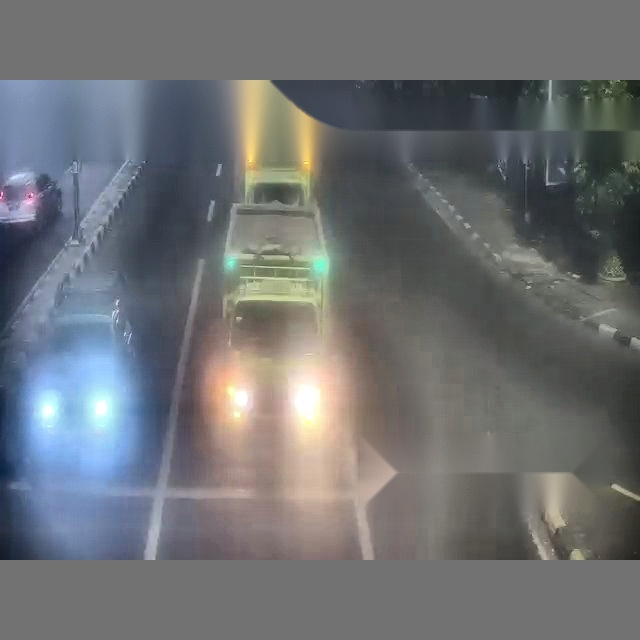Mobil: (0, 248, 174, 558), (221, 204, 332, 318)
